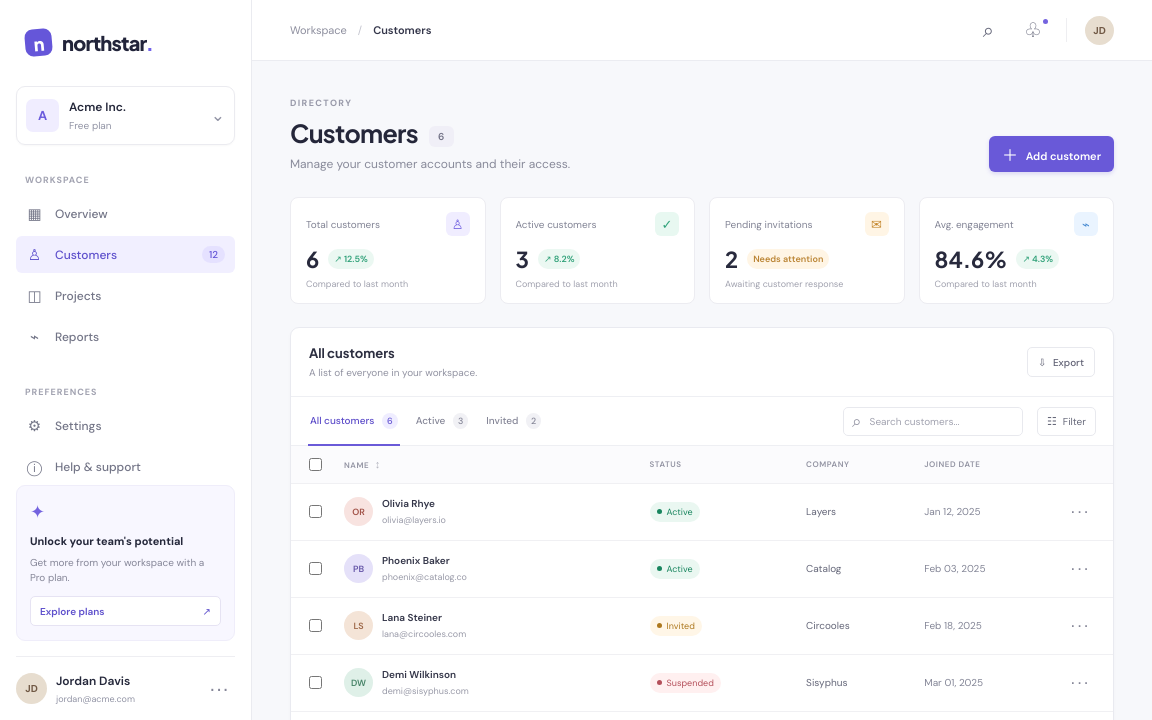
customer directory › combines a status filter with search and reports no matching customers
Click the tab "Invited 2" at (514, 421), box [484,396,543,446]
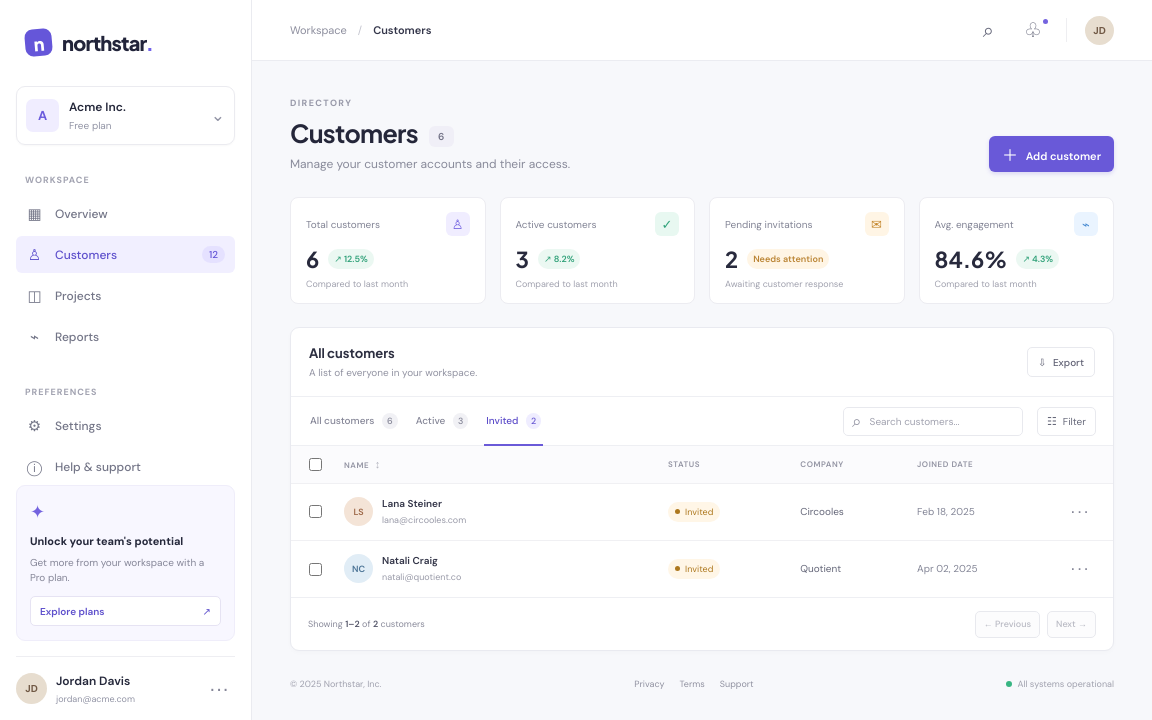
Type "layers.io" into the field named "Search customers" at (941, 421), box [868,414,1014,428]
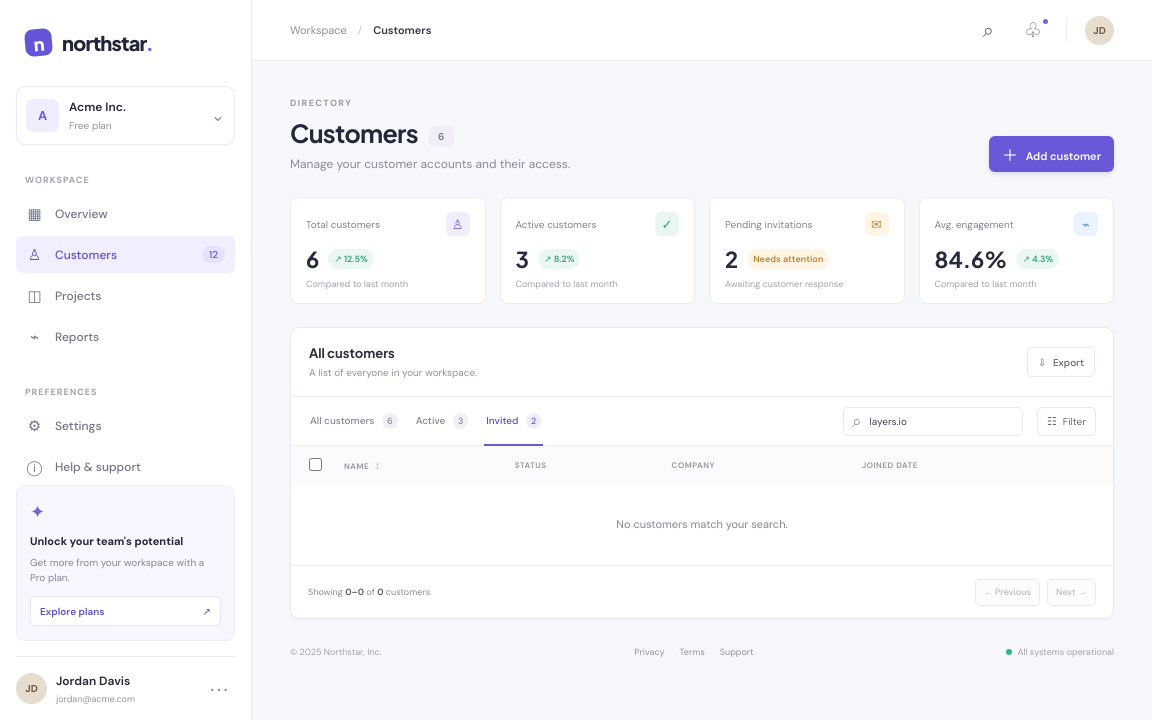
Check: the text "No customers match your search." is shown, box [616,517,788,531]
Check: the text "Showing 0–0 of 0 customers" is shown, box [308,586,430,598]
Replace the text in the field named "Search customers" with "circooles" at (941, 421), box [868,414,1014,428]
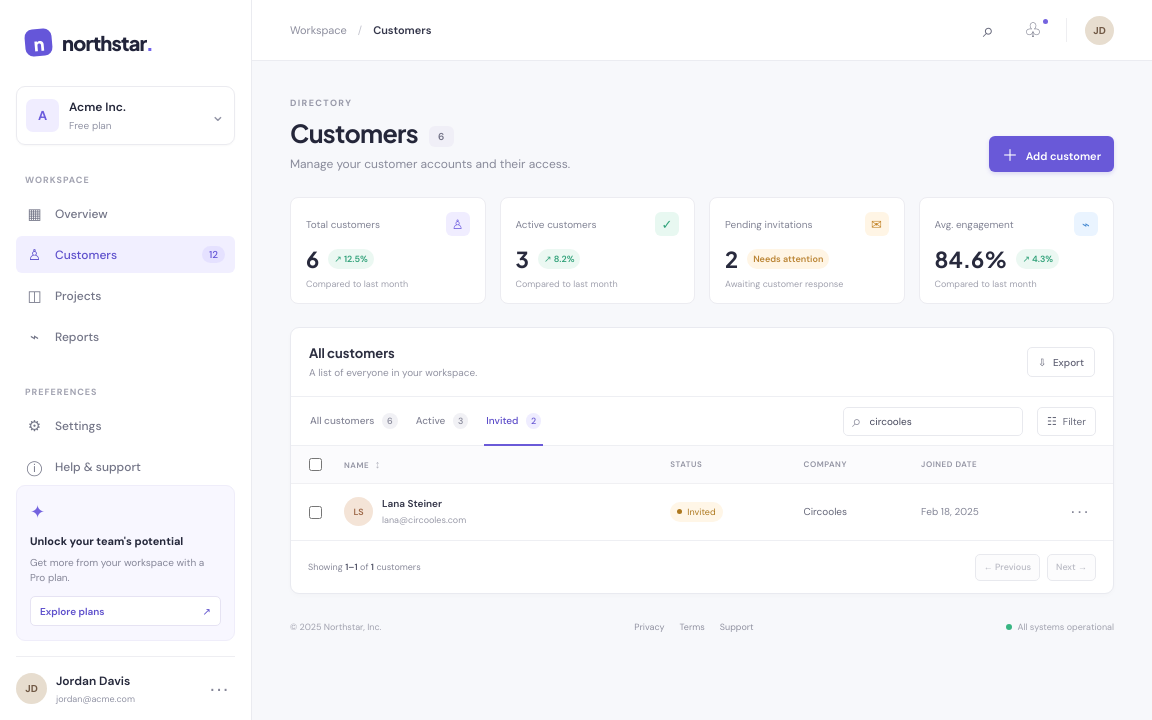
Check: the text "Lana Steiner" is shown, box [382,497,442,510]
Check: the text "Showing 1–1 of 1 customers" is shown, box [308,561,421,573]
